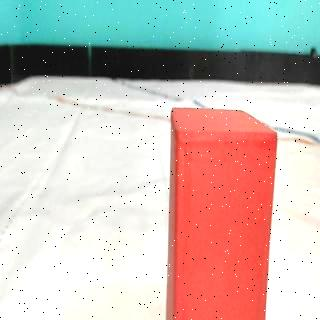redbox: (164, 105, 278, 320)
